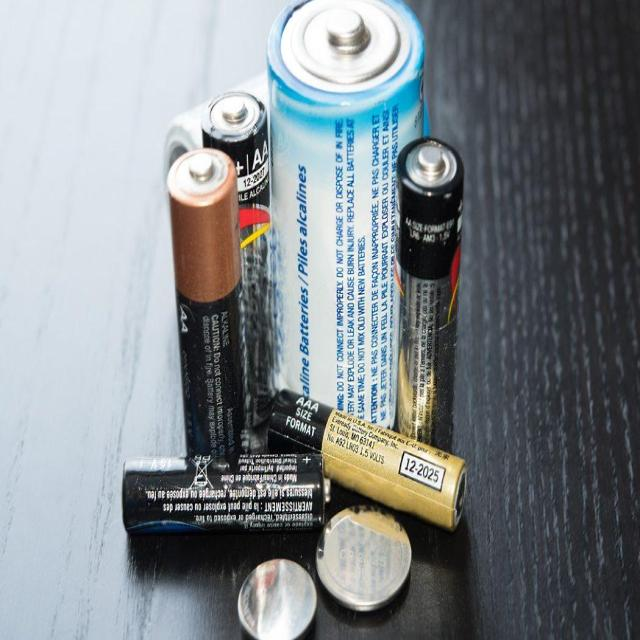battery: (266, 0, 426, 441), (263, 388, 468, 532), (166, 149, 250, 456), (200, 91, 274, 421), (398, 134, 464, 453), (122, 455, 331, 535)
